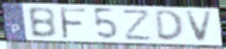5: (92, 6, 121, 42)
B: (26, 6, 59, 39)
D: (153, 9, 186, 43)
F: (58, 6, 89, 40)
V: (184, 10, 216, 44)
Z: (121, 9, 154, 42)
